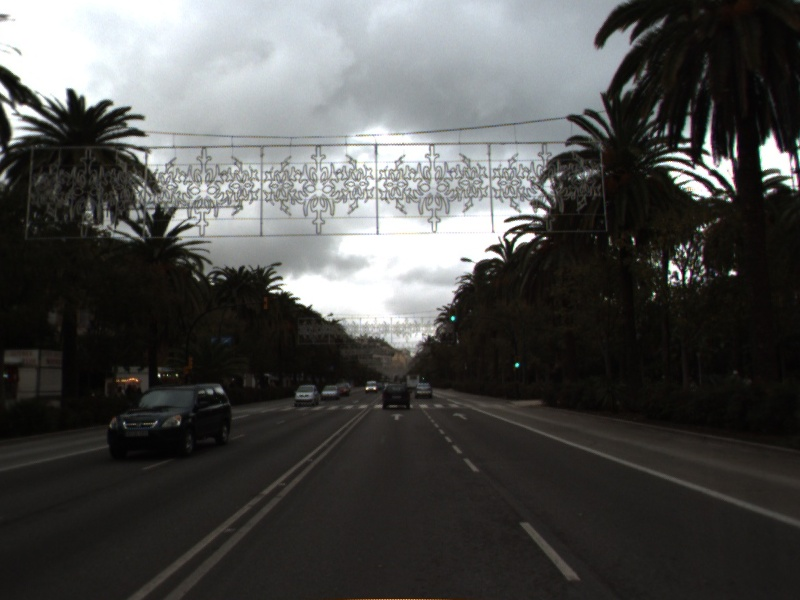STRAIGHT: (450, 410, 470, 422), (389, 411, 407, 422)
